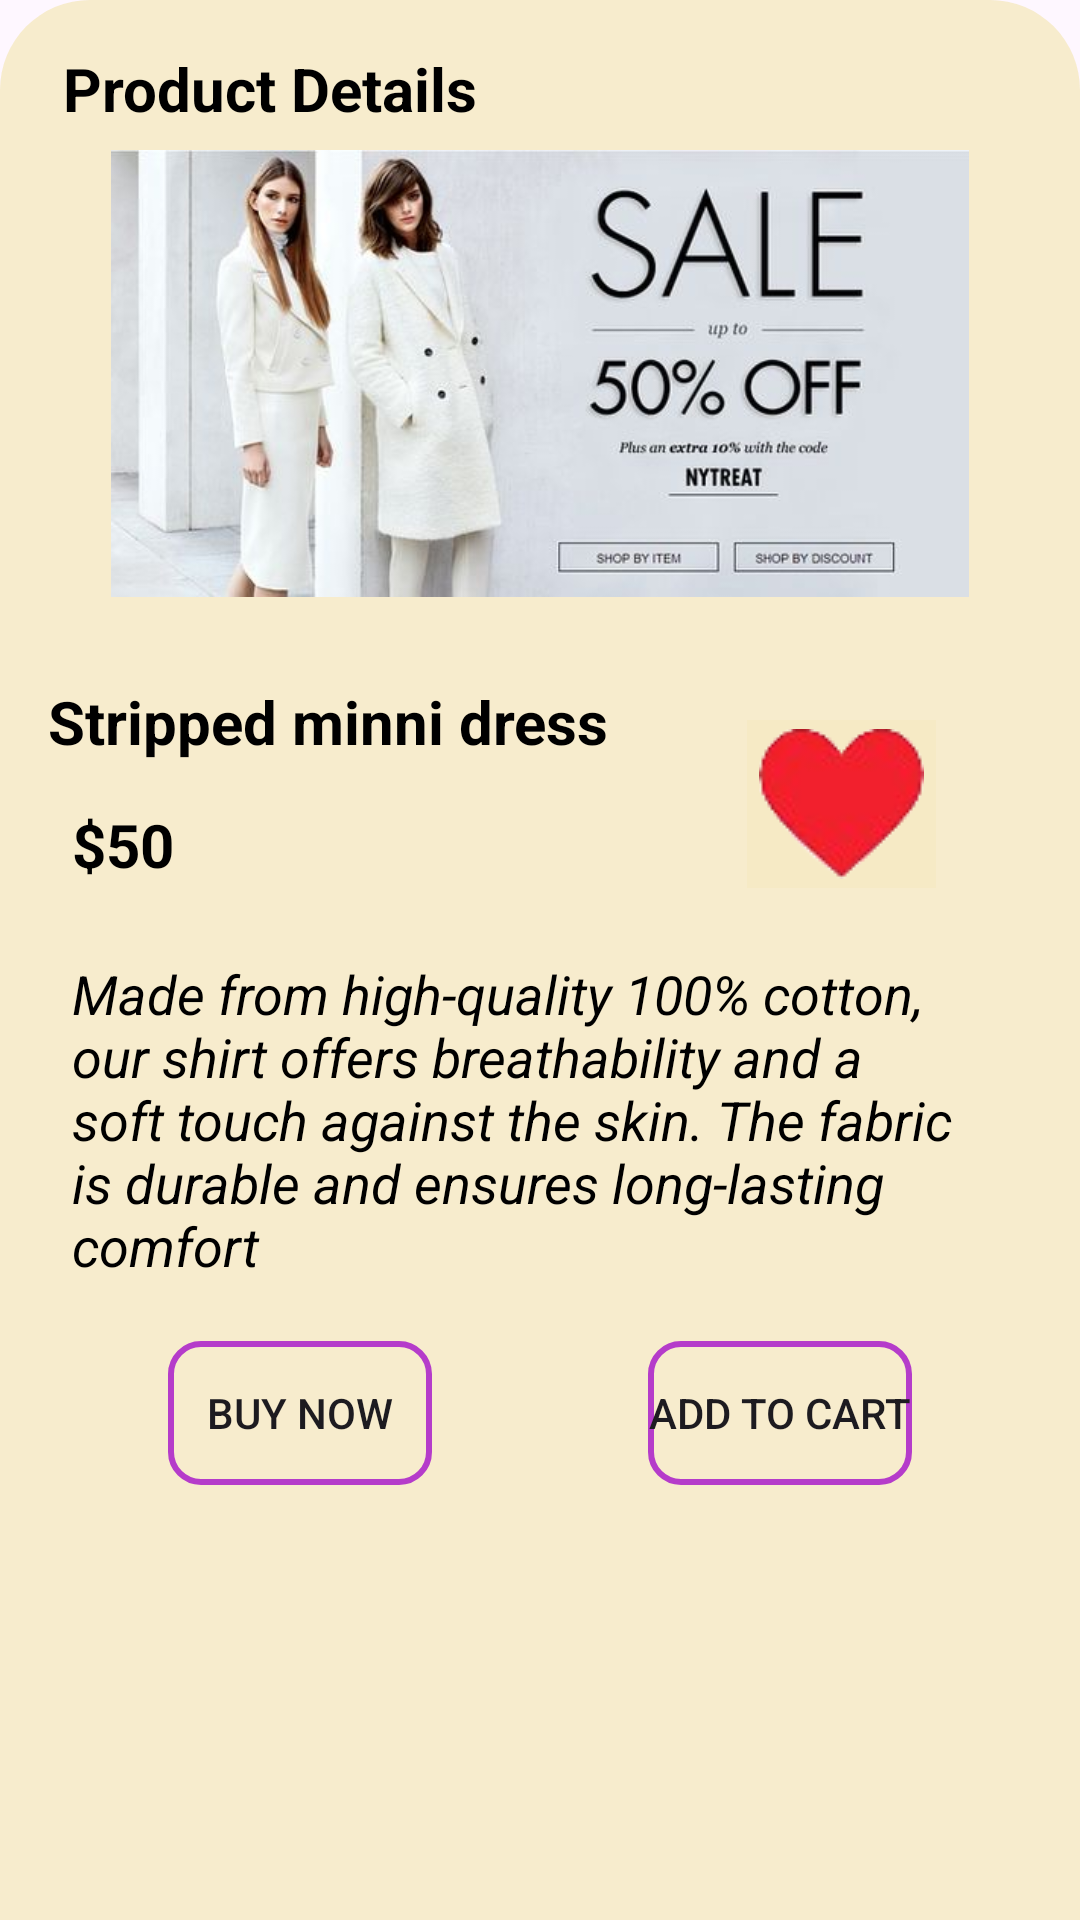

Icon bounding boxes for this 1080*1920 phone screenshot, format (x1, y1, x2, y2):
heart: (759, 729, 924, 877)
